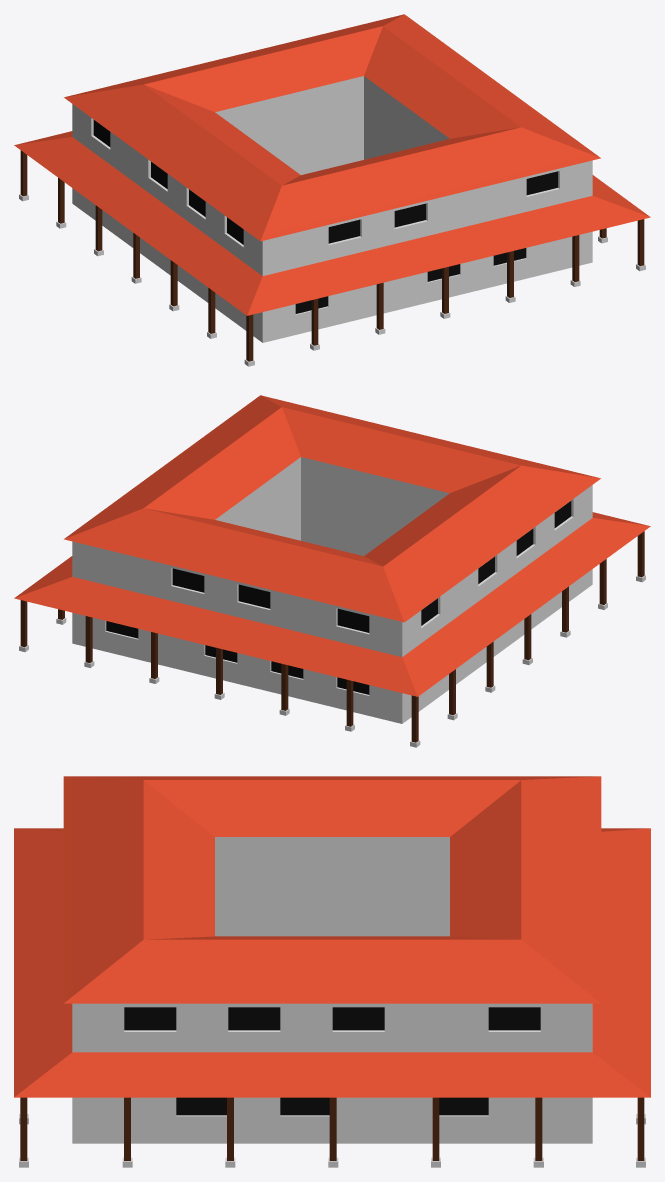
Rendered from Haus_1.fbx.
The picture shows the model from 3 angles, top to bottom: view 1: azimuth 30°, elevation 25°; view 2: azimuth 150°, elevation 25°; view 3: azimuth 270°, elevation 25°; orthographic projection. The views are drawn at different scales.
Visible parts, largest first — view 1: Plane.374, Cube.380, Cube.382; view 2: Plane.374, Cube.381, Cube.382; view 3: Plane.374, Cube.383, Cube.380, Cube.381.
Part boxes in pixels (x1,y1,x2,y2): Plane.374: [14, 14, 650, 342]; Cube.380: [244, 219, 645, 366]; Cube.382: [56, 178, 216, 338]; Plane.374: [14, 395, 650, 723]; Cube.381: [19, 600, 420, 747]; Cube.382: [447, 559, 607, 720]; Plane.374: [14, 776, 650, 1143]; Cube.383: [122, 1097, 543, 1167]; Cube.380: [19, 1097, 28, 1167]; Cube.381: [636, 1097, 645, 1167].
Bounding box in the file's own units: 5201 × 1580 × 5201.
